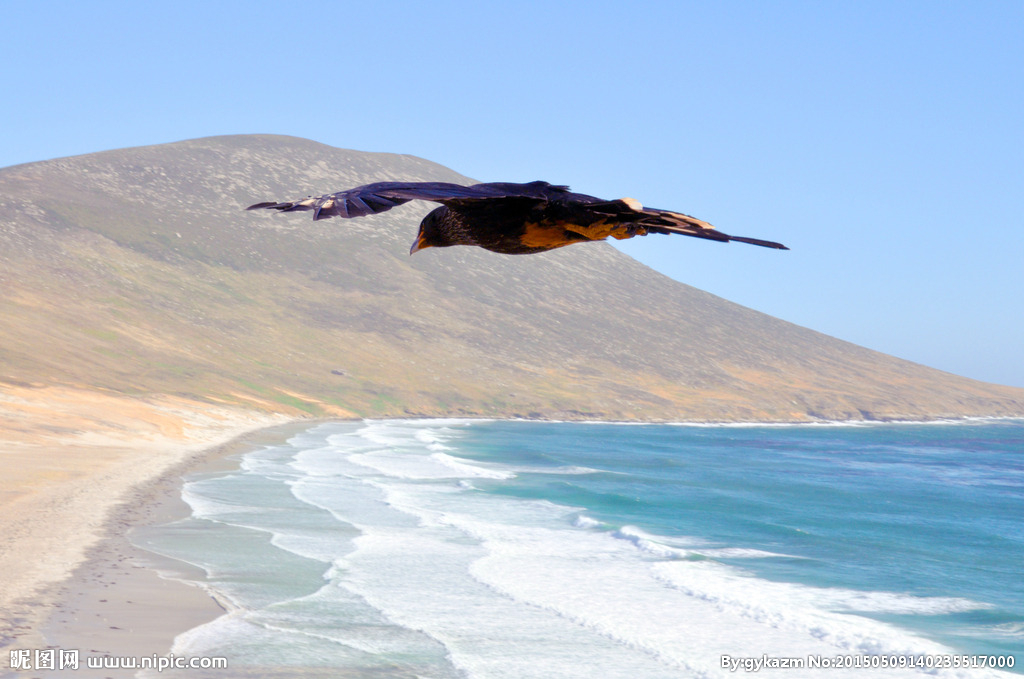warship: (247, 169, 795, 258)
